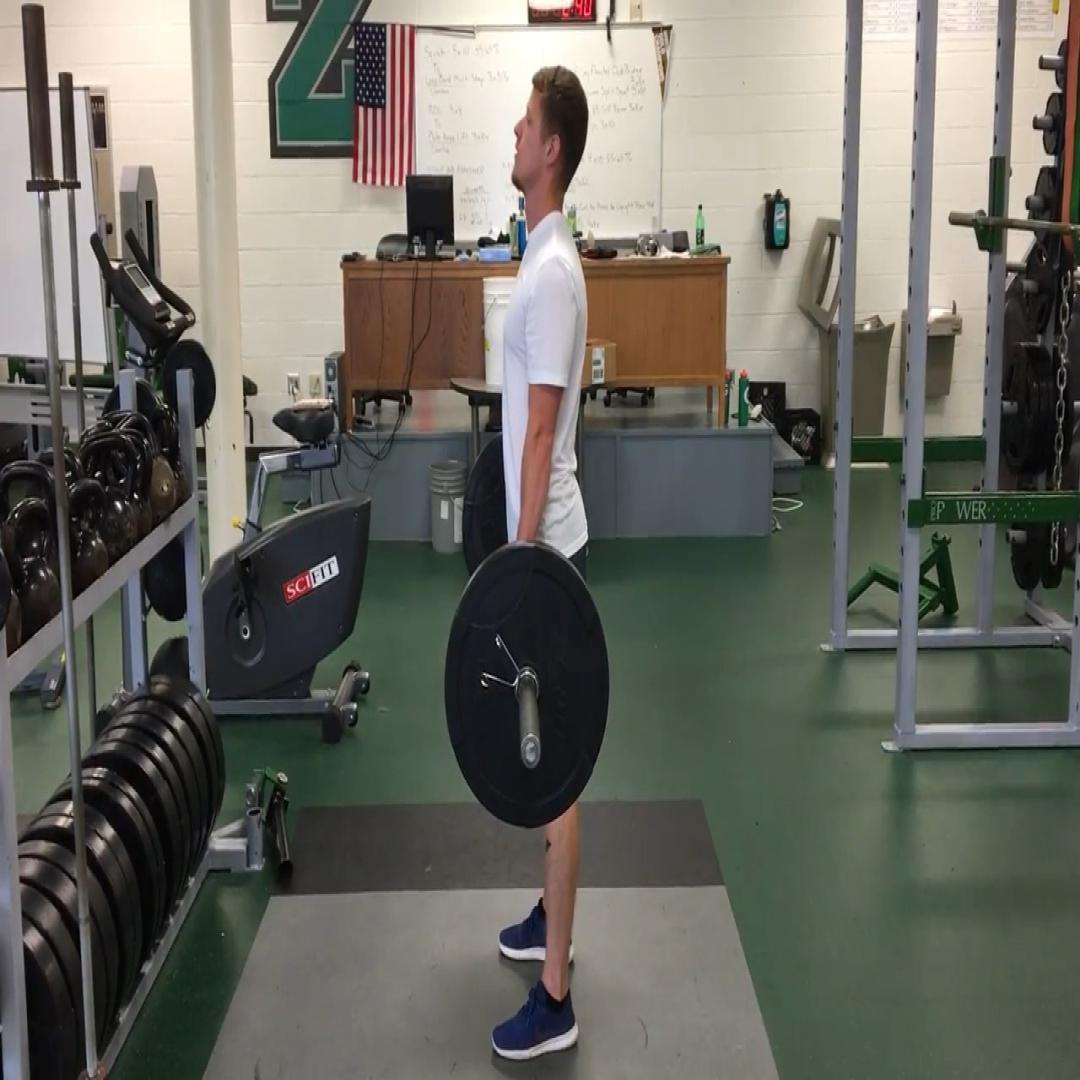Bar: (520, 733, 540, 770)
Barbell: (444, 546, 609, 828)
